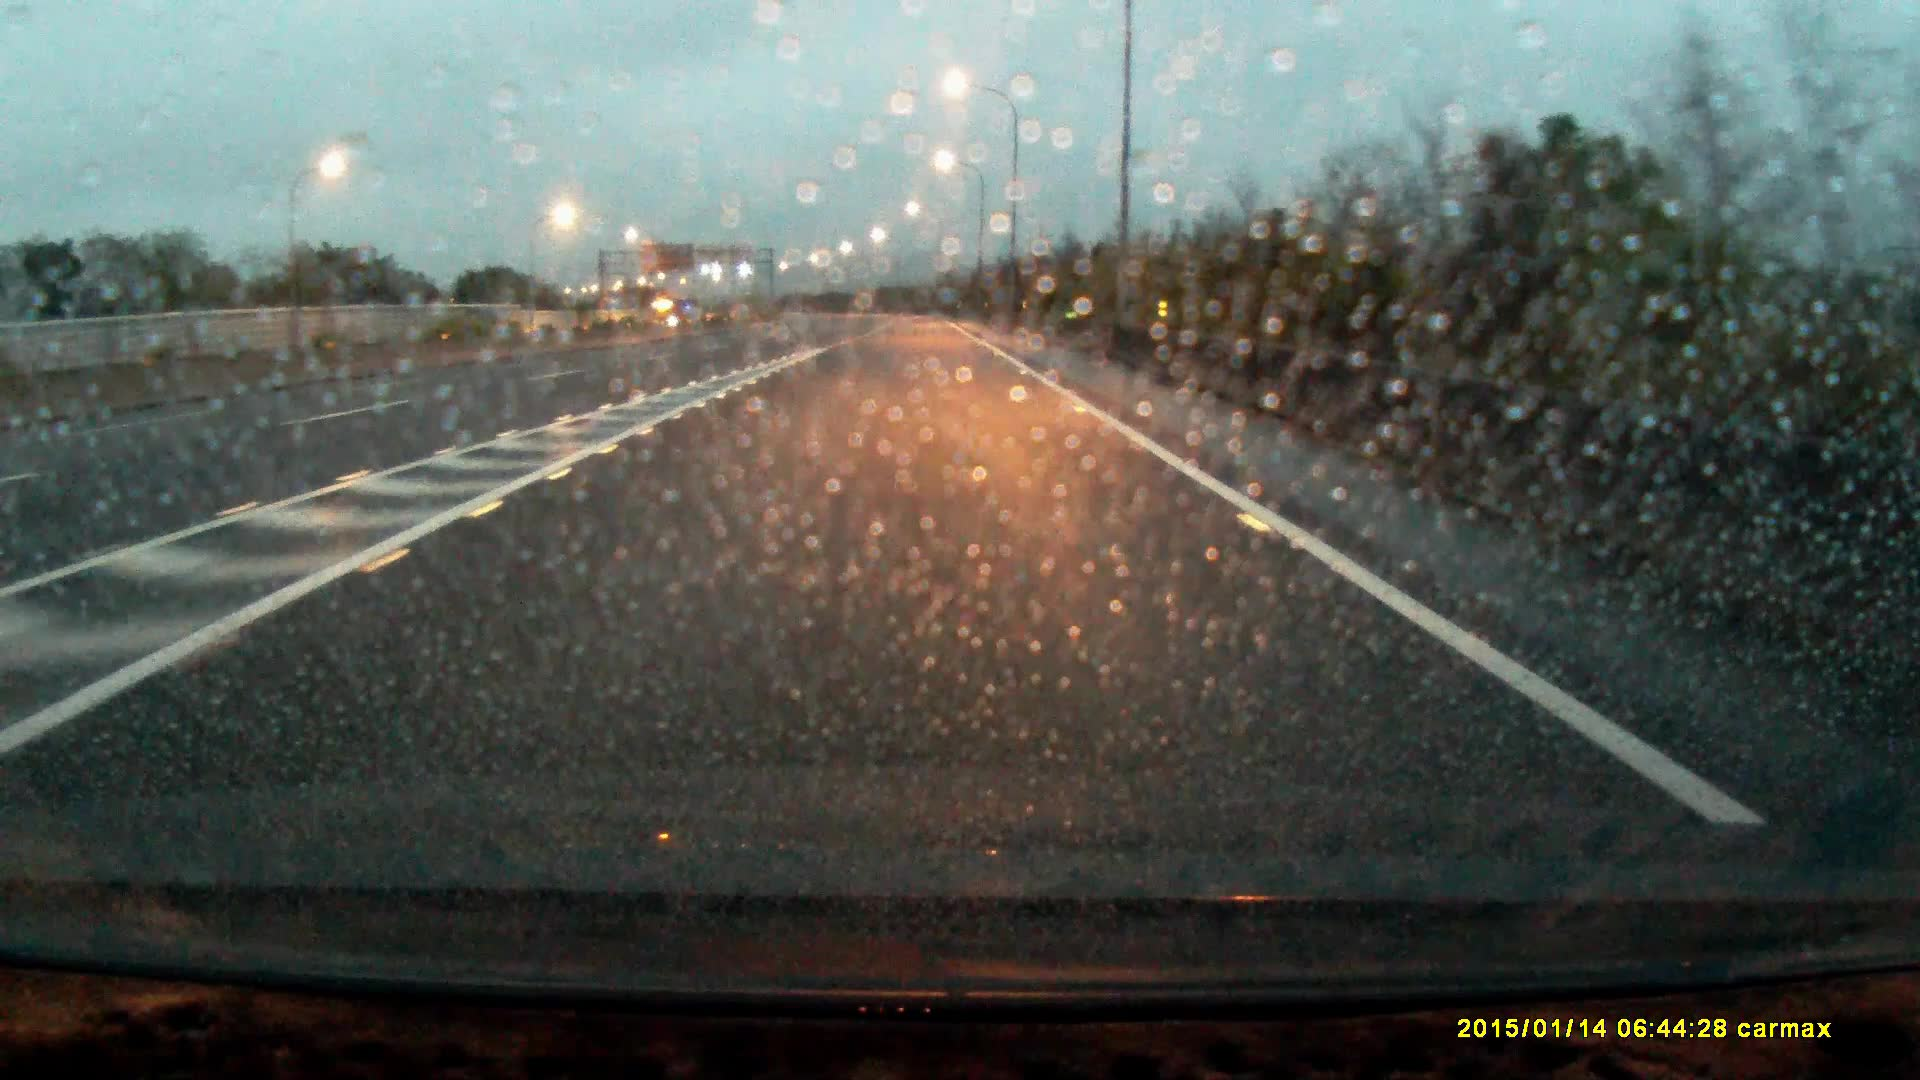vehicle: (651, 298, 684, 326)
